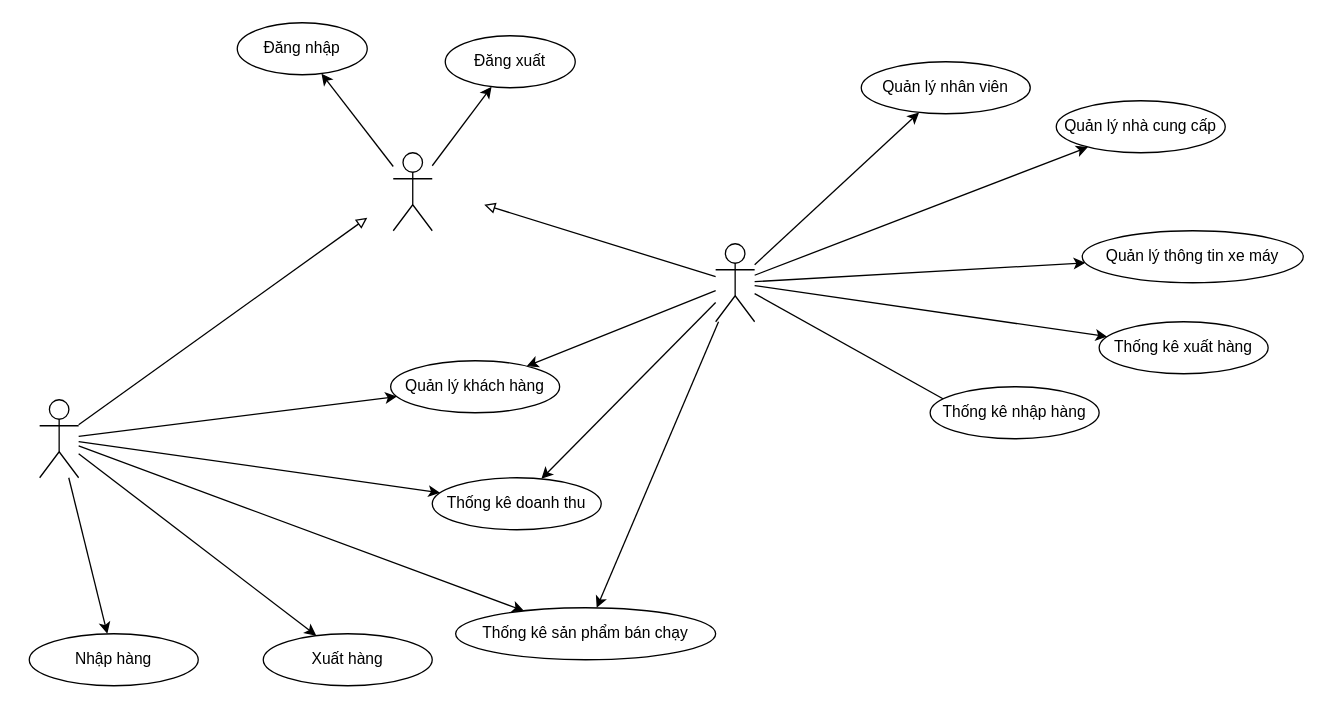
The diagram is 1326 pixels wide and 709 high, and some of its shapes have lost their labels. The centre of each missing label's shape, as x and y in pixels:
"Nhân Viên" belongs at [58,438].
"Quản Lý" belongs at [734,282].
"User" belongs at [412,191].
